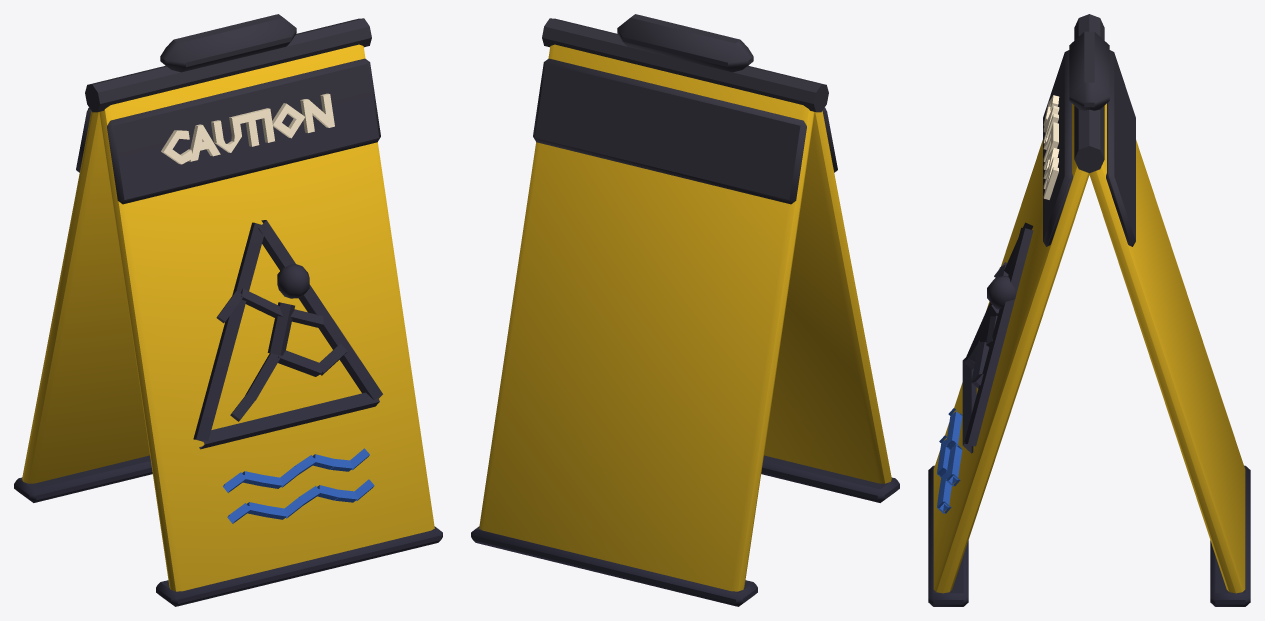
Rendered from hz_wet_sign.glb.
3 renders of one model, left to right at view 1: azimuth 30°, elevation 25°; view 2: azimuth 150°, elevation 25°; view 3: azimuth 270°, elevation 25°, orthographic.
Visible parts, largest first — view 1: hz_wet_sign; view 2: hz_wet_sign; view 3: hz_wet_sign.
Boxes of the visible parts, box(x1,y1,x2,y2) form: hz_wet_sign: box(14, 14, 442, 606); hz_wet_sign: box(471, 14, 899, 606); hz_wet_sign: box(928, 14, 1250, 606).
Size of the model in its own units: 0.62 by 1.07 by 0.64.
